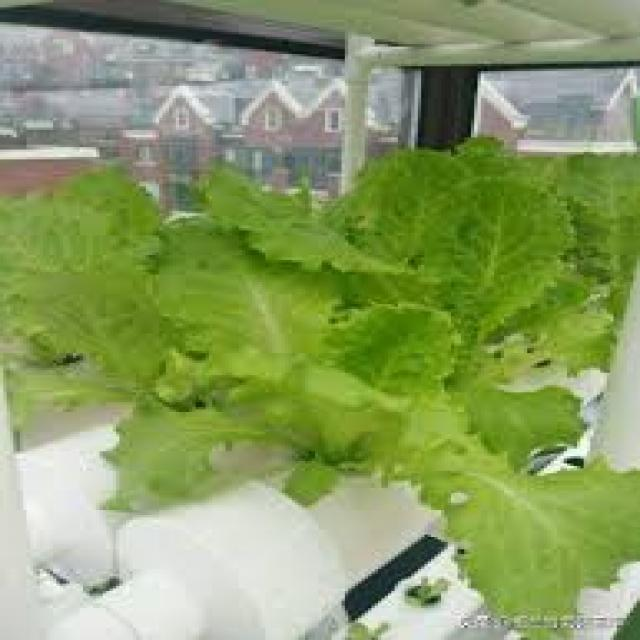organic waste: (0, 167, 637, 638), (345, 132, 637, 368)
